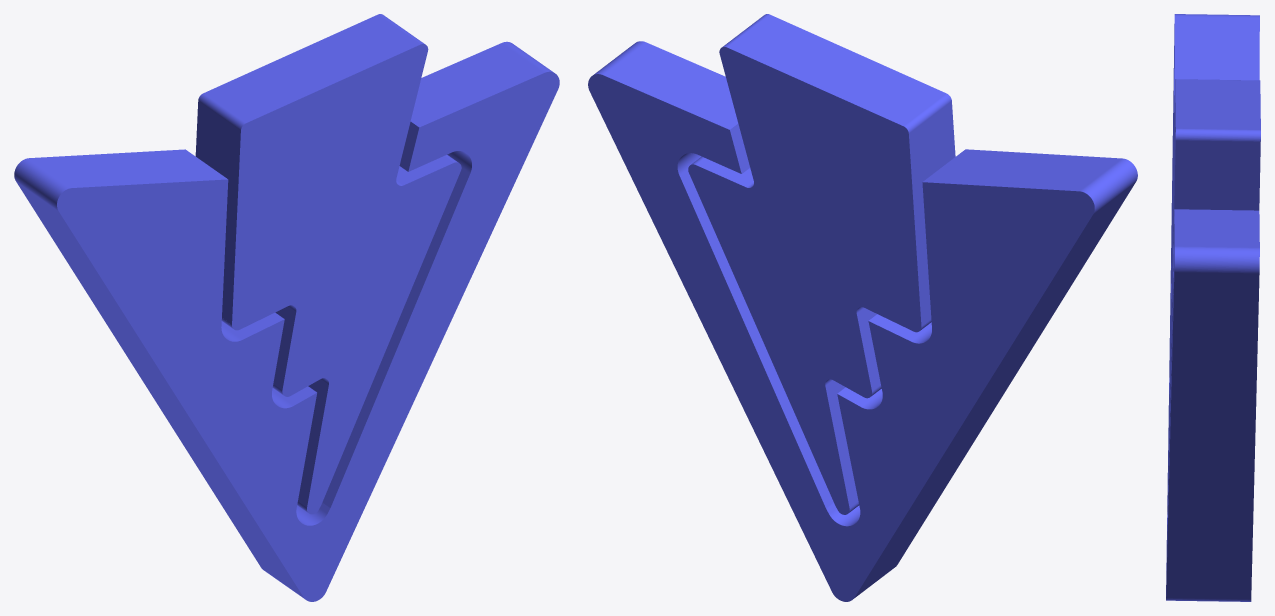
File: Vite_model.glb
3 renders of one model, left to right at view 1: azimuth 30°, elevation 25°; view 2: azimuth 150°, elevation 25°; view 3: azimuth 270°, elevation 25°, orthographic.
Visible parts, largest first — view 1: Curve; view 2: Curve; view 3: Curve.
Part boxes in pixels (<box>): Curve: <box>14,14,559,601</box>; Curve: <box>588,14,1137,601</box>; Curve: <box>1166,14,1260,601</box>.
Size of the model in its own units: 0.00676 by 0.00679 by 0.00111.
